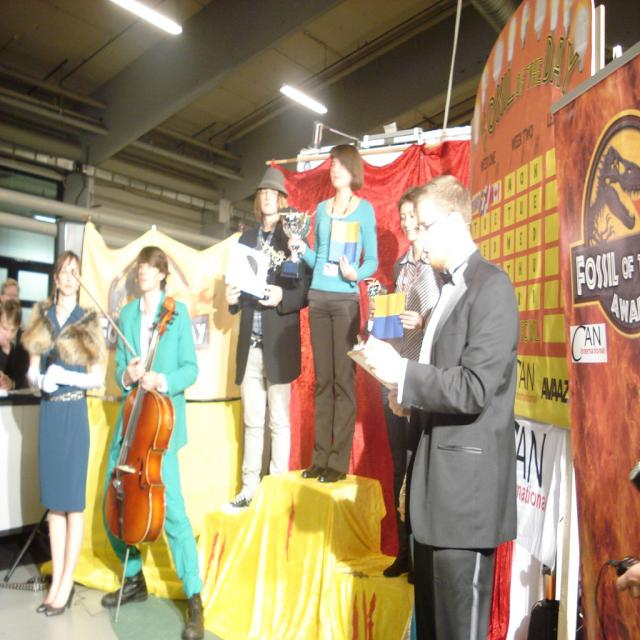cello: (99, 282, 179, 543)
